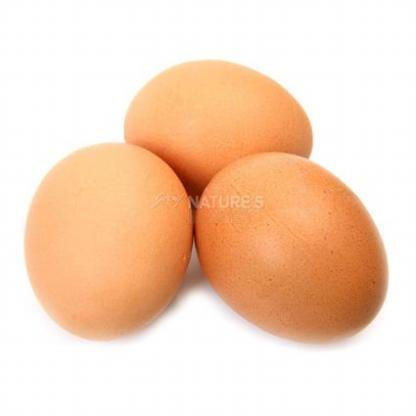egg: (190, 148, 392, 349), (22, 140, 198, 344), (122, 56, 316, 219)
